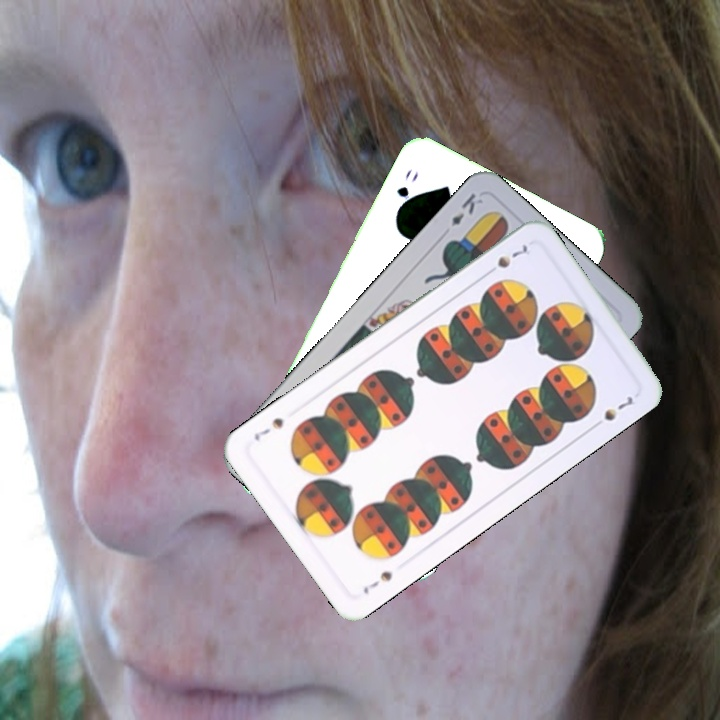EK: (447, 189, 486, 229)
GO: (392, 165, 421, 216)
S7: (481, 240, 531, 279), (359, 566, 395, 597)
